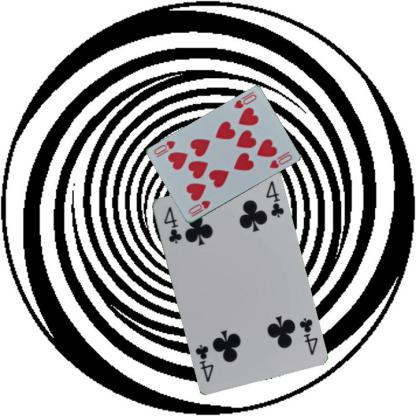10h: (186, 198, 212, 218), (231, 92, 258, 110)
4c: (296, 315, 319, 356), (161, 203, 183, 245)
